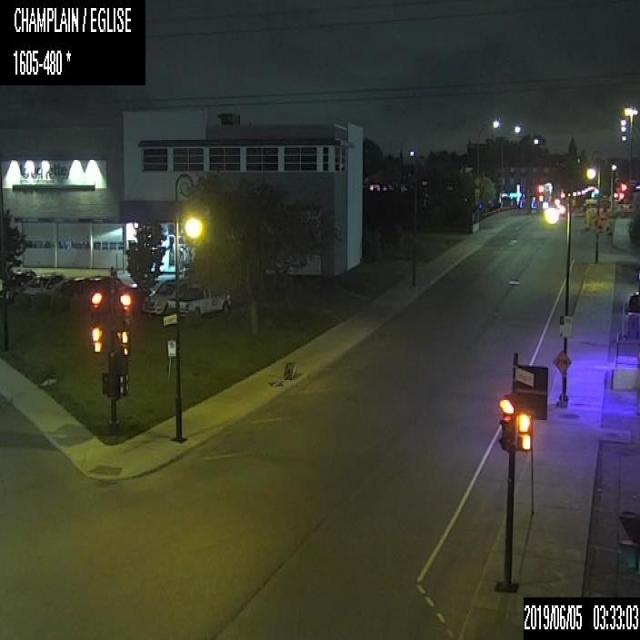construction: (552, 350, 571, 408), (268, 360, 296, 390), (40, 362, 57, 385), (592, 216, 602, 230)
vehicle: (166, 286, 232, 314), (72, 274, 124, 307), (141, 278, 189, 313), (23, 271, 67, 298), (1, 266, 36, 298), (51, 274, 87, 300), (117, 282, 152, 307)
